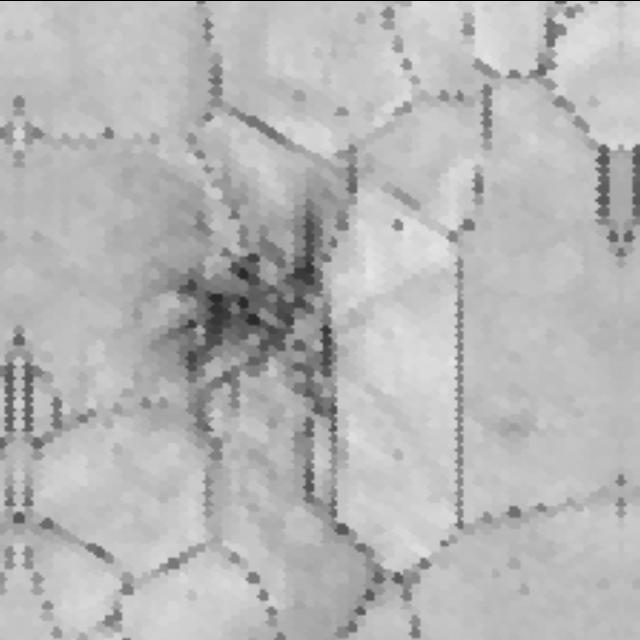good_void: (165, 189, 345, 405), (332, 103, 356, 120), (389, 217, 409, 237), (394, 449, 408, 461)
